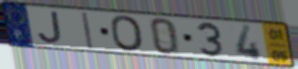0: (148, 17, 180, 56)
3: (196, 21, 224, 58)
4: (234, 23, 262, 62)
I: (80, 11, 95, 50)
J: (36, 11, 64, 45)
O: (108, 14, 146, 53)
